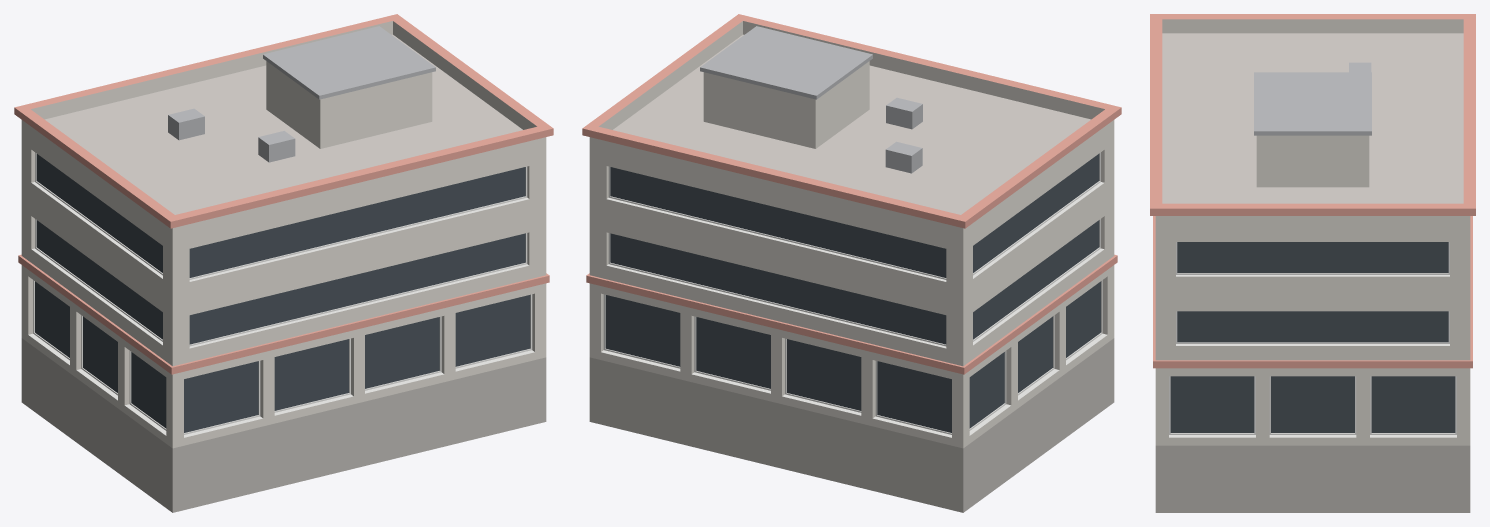
File: office_3_m.glb
The picture shows the model from 3 angles, left to right: view 1: azimuth 30°, elevation 25°; view 2: azimuth 150°, elevation 25°; view 3: azimuth 270°, elevation 25°; orthographic projection. The views are drawn at different scales.
Visible parts, largest first — view 1: office_3_m; view 2: office_3_m; view 3: office_3_m.
Boxes of the visible parts, box(x1,y1,x2,y2) form: office_3_m: box(14, 14, 553, 512); office_3_m: box(582, 14, 1121, 512); office_3_m: box(1150, 14, 1475, 512).
Bounding box in the file's own units: 20.5 × 17.15 × 14.5.
